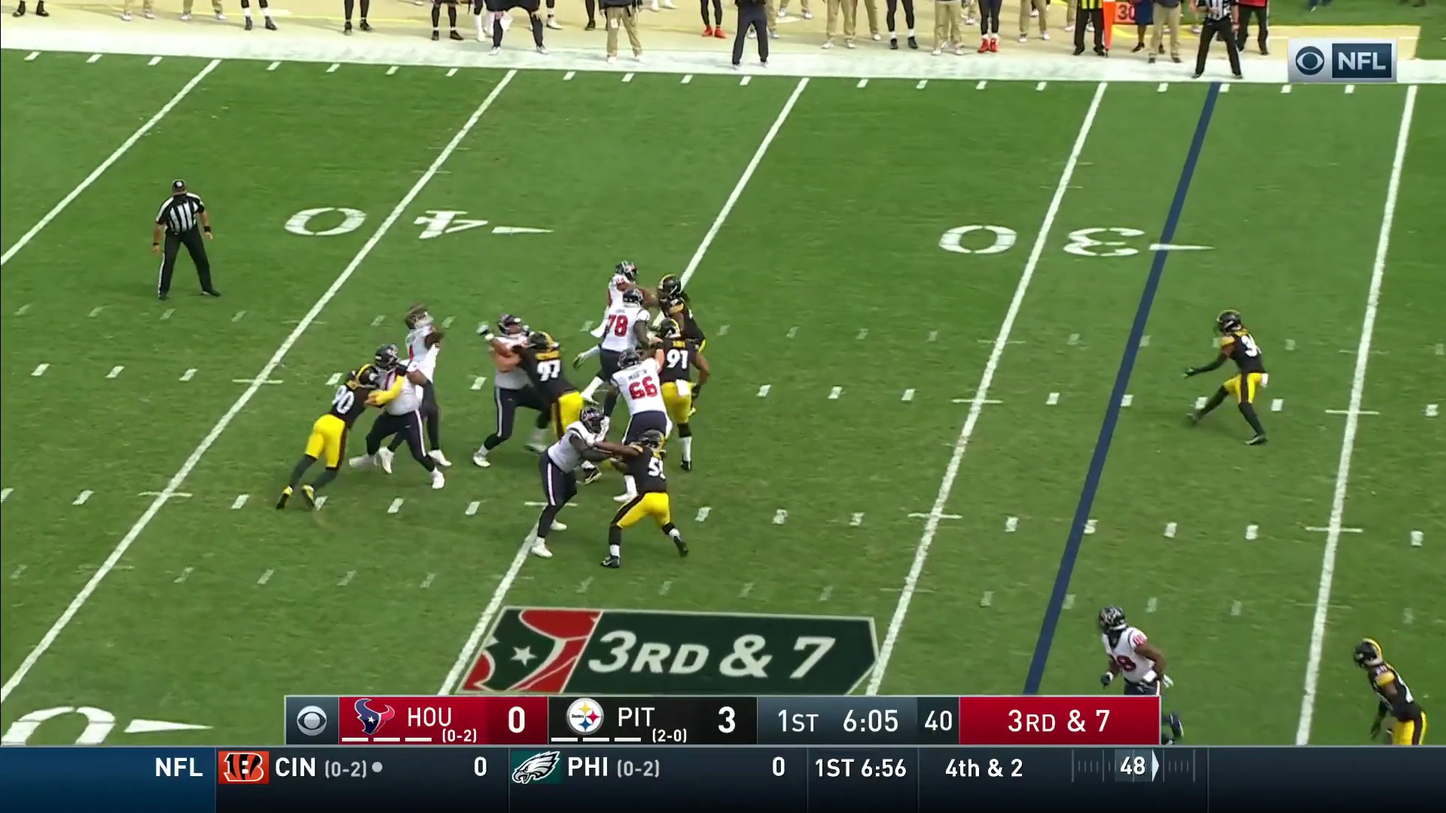Player: (477, 313, 543, 449), (364, 348, 431, 472), (655, 275, 707, 406), (403, 306, 442, 470), (1099, 605, 1163, 696), (612, 353, 670, 446), (597, 261, 647, 358)
